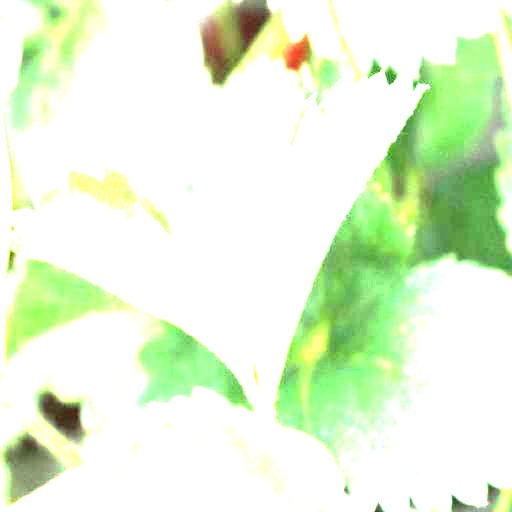Powdery Mildew Leaf: (222, 68, 430, 398), (7, 159, 258, 392)
